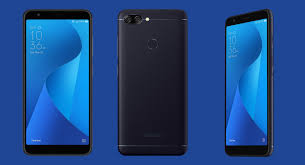asus: (18, 6, 95, 158), (114, 6, 190, 158), (219, 7, 279, 159)
